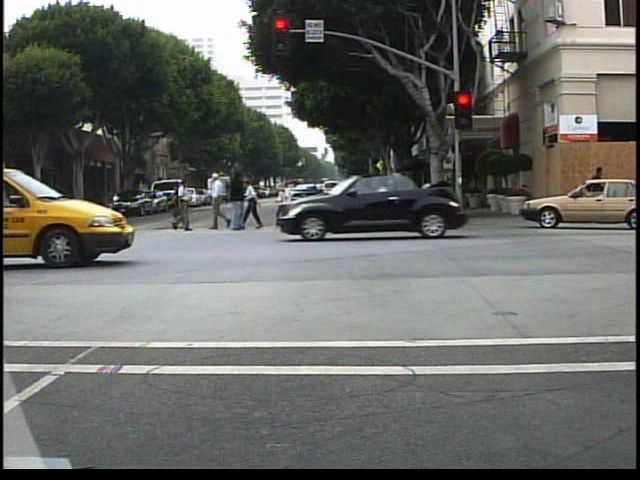person: (224, 171, 249, 234), (208, 171, 234, 231), (584, 162, 607, 222), (169, 176, 193, 233), (21, 192, 49, 240), (167, 181, 192, 233), (25, 183, 49, 237), (245, 178, 265, 231)
